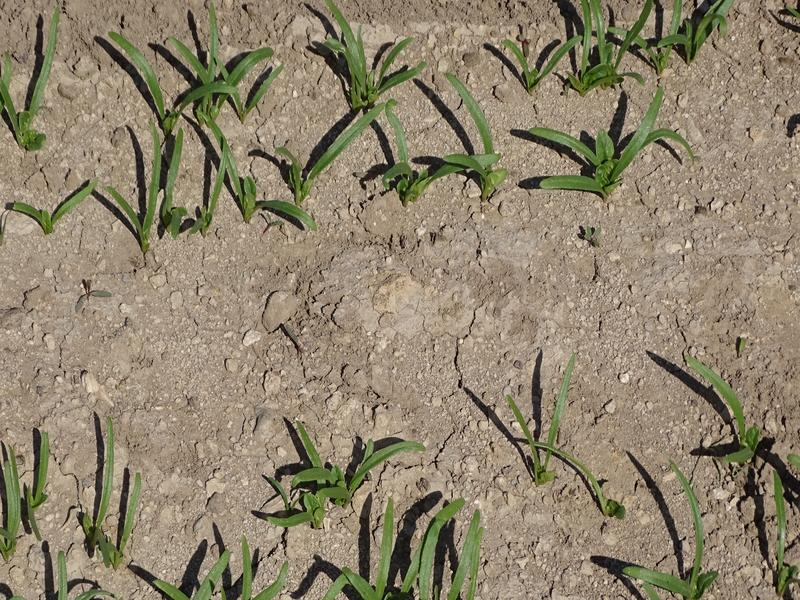Espinaca: (104, 27, 314, 228), (160, 508, 489, 600), (495, 342, 619, 511), (509, 5, 731, 87), (529, 97, 685, 208), (324, 23, 416, 202), (630, 466, 716, 600), (274, 420, 414, 499), (420, 73, 500, 204), (1, 9, 61, 146), (698, 366, 771, 470), (93, 419, 136, 562), (1, 436, 52, 551), (4, 177, 100, 227)
